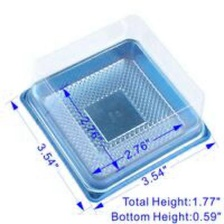plastic_box: (11, 7, 215, 207)
